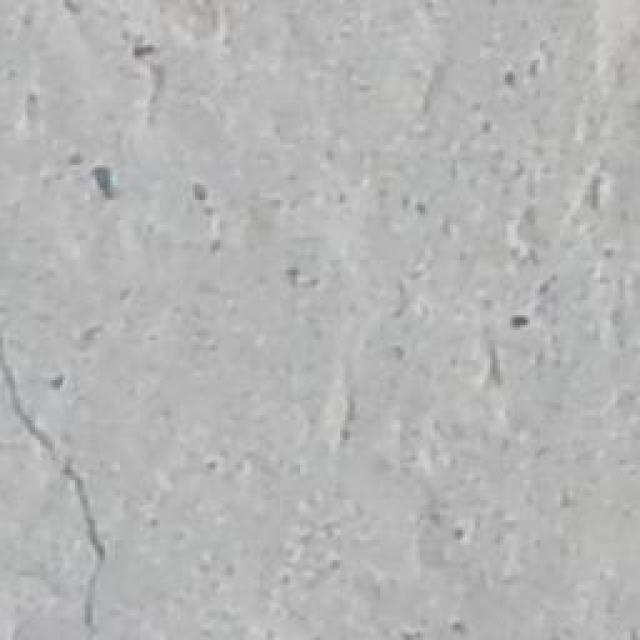concrete-crack: (0, 341, 114, 640)
